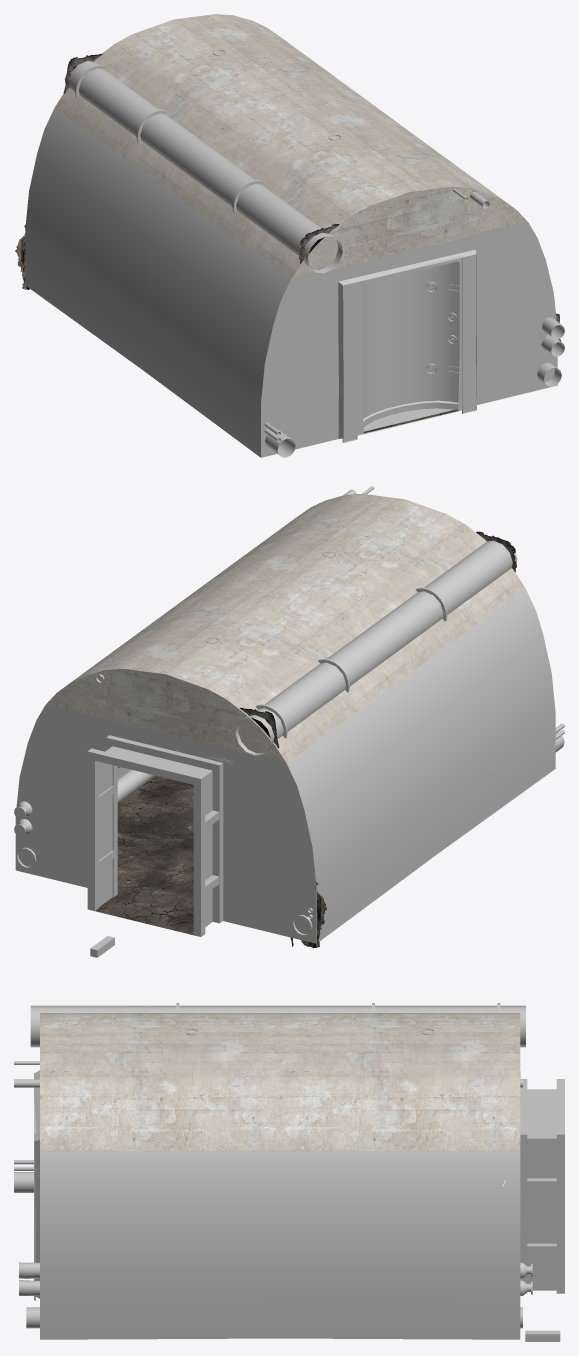
File: Entrance.FBX
3 views of the same model, one above another, from view 1: azimuth 30°, elevation 25°; view 2: azimuth 150°, elevation 25°; view 3: azimuth 270°, elevation 25° (orthographic).
Visible parts, largest first — view 1: Entrance_wall, Door_heavy_entr, Tube_big, Tube_warm; view 2: Entrance_wall, Entrance_floor, Tube_big, Door_plank, Tube; view 3: Entrance_wall, Tube_big, Door_plank, Tube_warm.
Part boxes in pixels (x1,y1,x2,y2): Entrance_wall: (25, 14, 557, 457); Door_heavy_entr: (342, 254, 476, 442); Tube_big: (64, 61, 342, 273); Tube_warm: (541, 317, 564, 356); Entrance_wall: (15, 494, 555, 943); Entrance_floor: (95, 775, 193, 935); Tube_big: (235, 537, 517, 755); Door_plank: (87, 735, 223, 957); Tube: (17, 769, 155, 867); Entrance_wall: (34, 1013, 556, 1339); Tube_big: (30, 1003, 525, 1047); Door_plank: (520, 1079, 564, 1341); Tube_warm: (19, 1262, 532, 1296).
Size of the model in its own units: 533 by 447 by 790.
